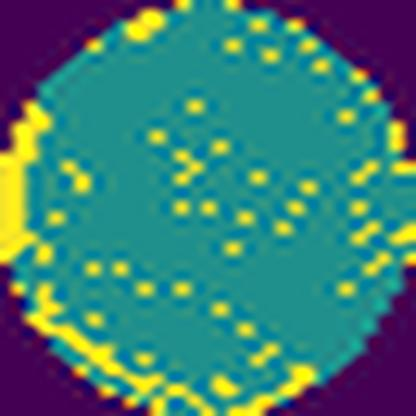Edge-Loc: (24, 283, 211, 416), (0, 98, 62, 268), (231, 366, 317, 415)
